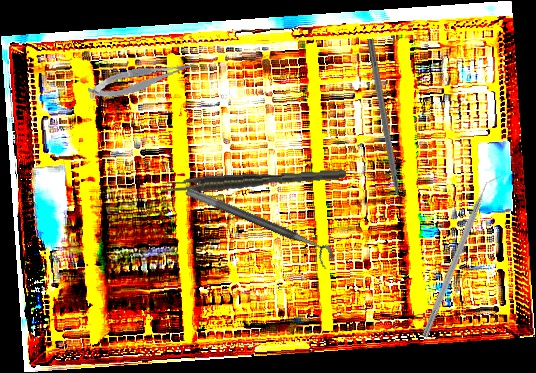Chopper: (420, 169, 504, 343)
Fixation Ring: (179, 186, 340, 271)
Hook Surgical: (365, 38, 407, 223)
Micro Scissor: (85, 57, 199, 103)
Tissue Forceps: (159, 169, 347, 194)
